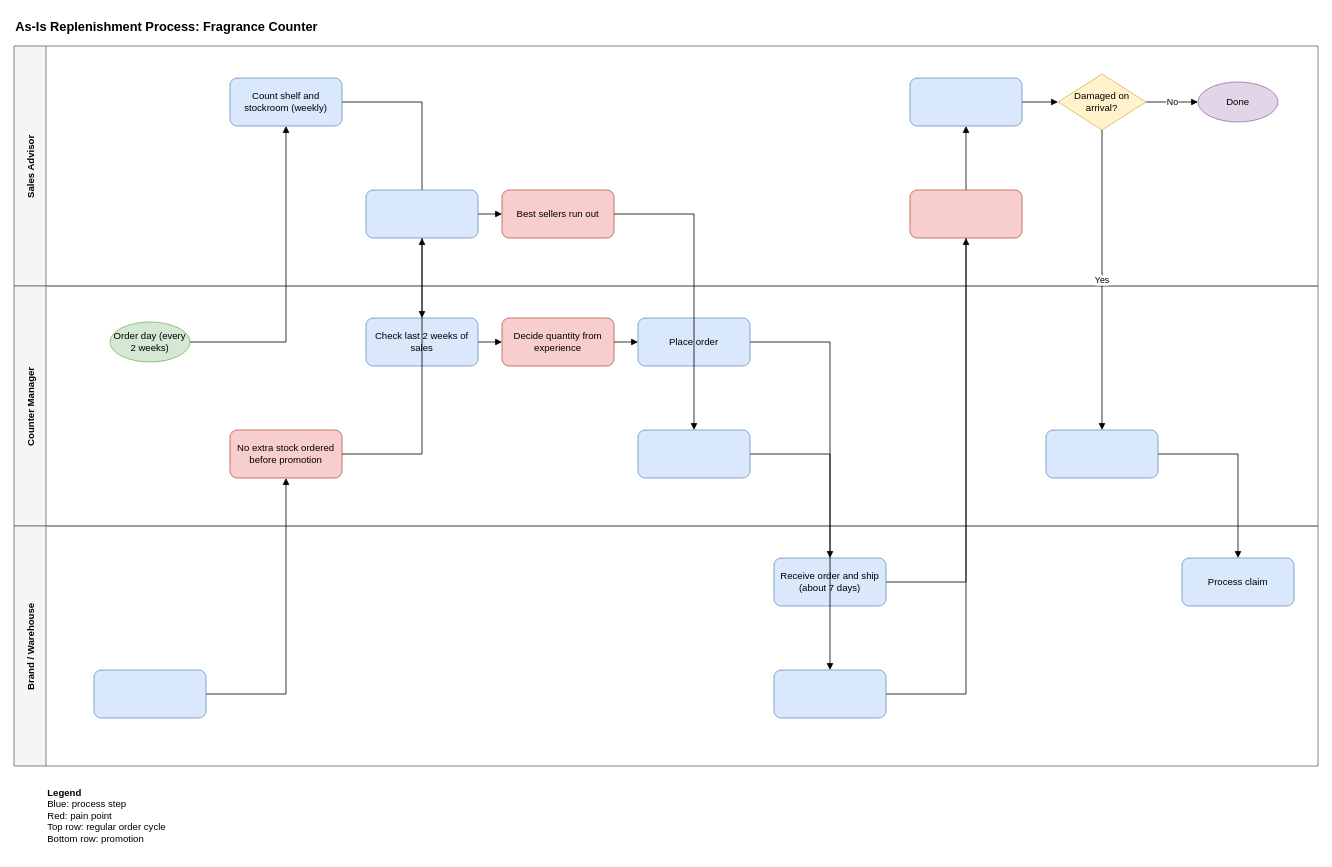
Image size: 1332x867. Some labels were removed from this diagram. The shapes that lost their labels are listed below. From the top down, each one's centre as x and y in pixels, then its label:
At pixel 965 101: "Receive delivery, check and shelve".
At pixel 421 213: "Promotion starts, sales spike".
At pixel 965 213: "Stock arrives after peak, gifts gone, overstock".
At pixel 693 453: "Place urgent top-up order".
At pixel 1101 453: "Submit claim to brand".
At pixel 149 693: "Notify upcoming promotion".
At pixel 829 693: "Ship urgent order (about 7 days)".
